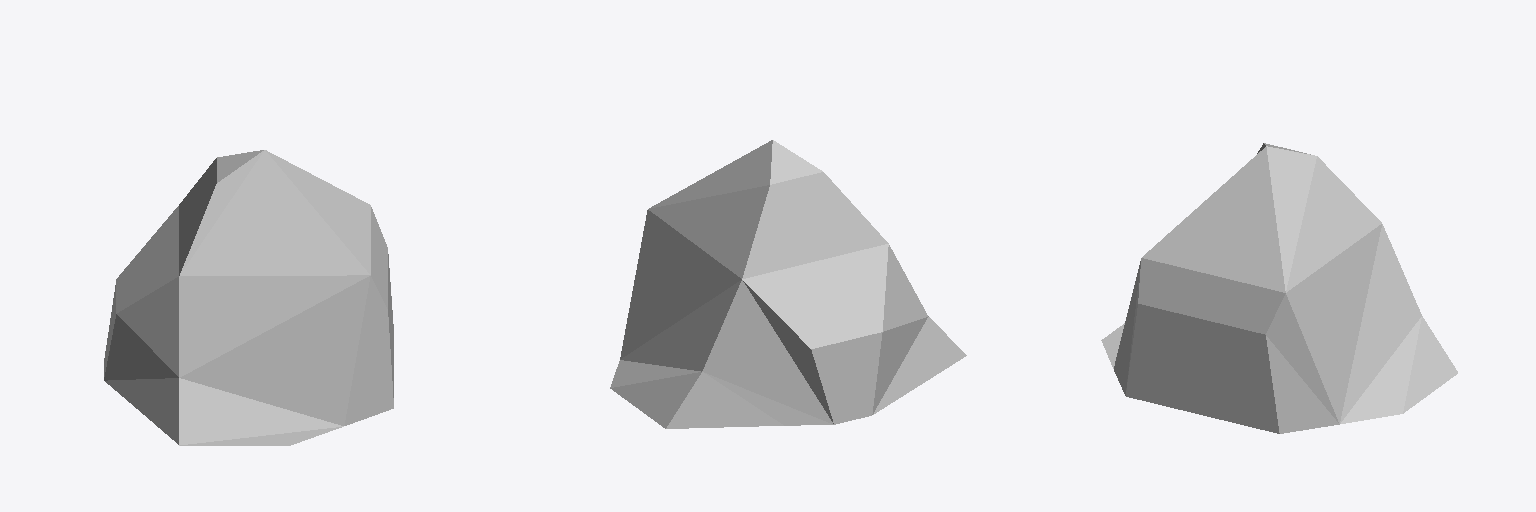
Rendered from mLv1Rock08.obj.
3 views of the same model, side by side, from view 1: azimuth 30°, elevation 25°; view 2: azimuth 150°, elevation 25°; view 3: azimuth 270°, elevation 25° (orthographic).
Parts seen in each view (by area): view 1: mStoneBolder11; view 2: mStoneBolder11; view 3: mStoneBolder11.
Boxes of the visible parts, <box> form: mStoneBolder11: <box>104,150,393,445</box>; mStoneBolder11: <box>610,140,966,428</box>; mStoneBolder11: <box>1101,143,1457,433</box>.
Bounding box in the file's own units: 3.54 × 2.72 × 3.98.